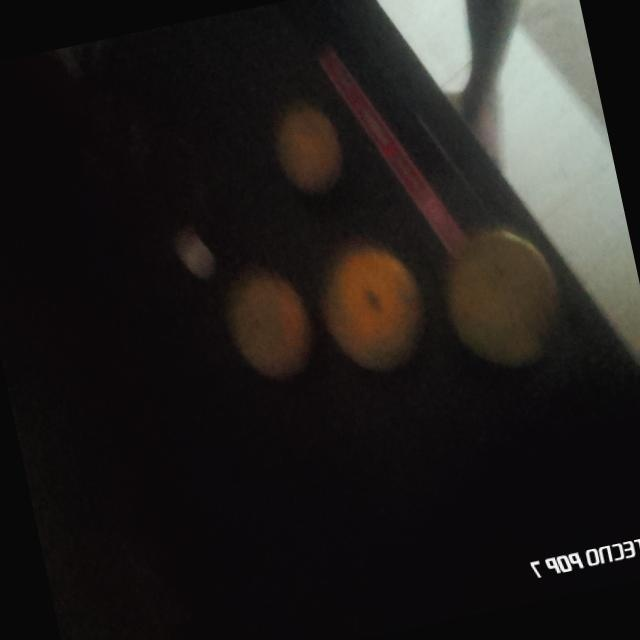agrume: (430, 210, 573, 370), (319, 245, 432, 375), (217, 258, 324, 375), (277, 105, 350, 188)
